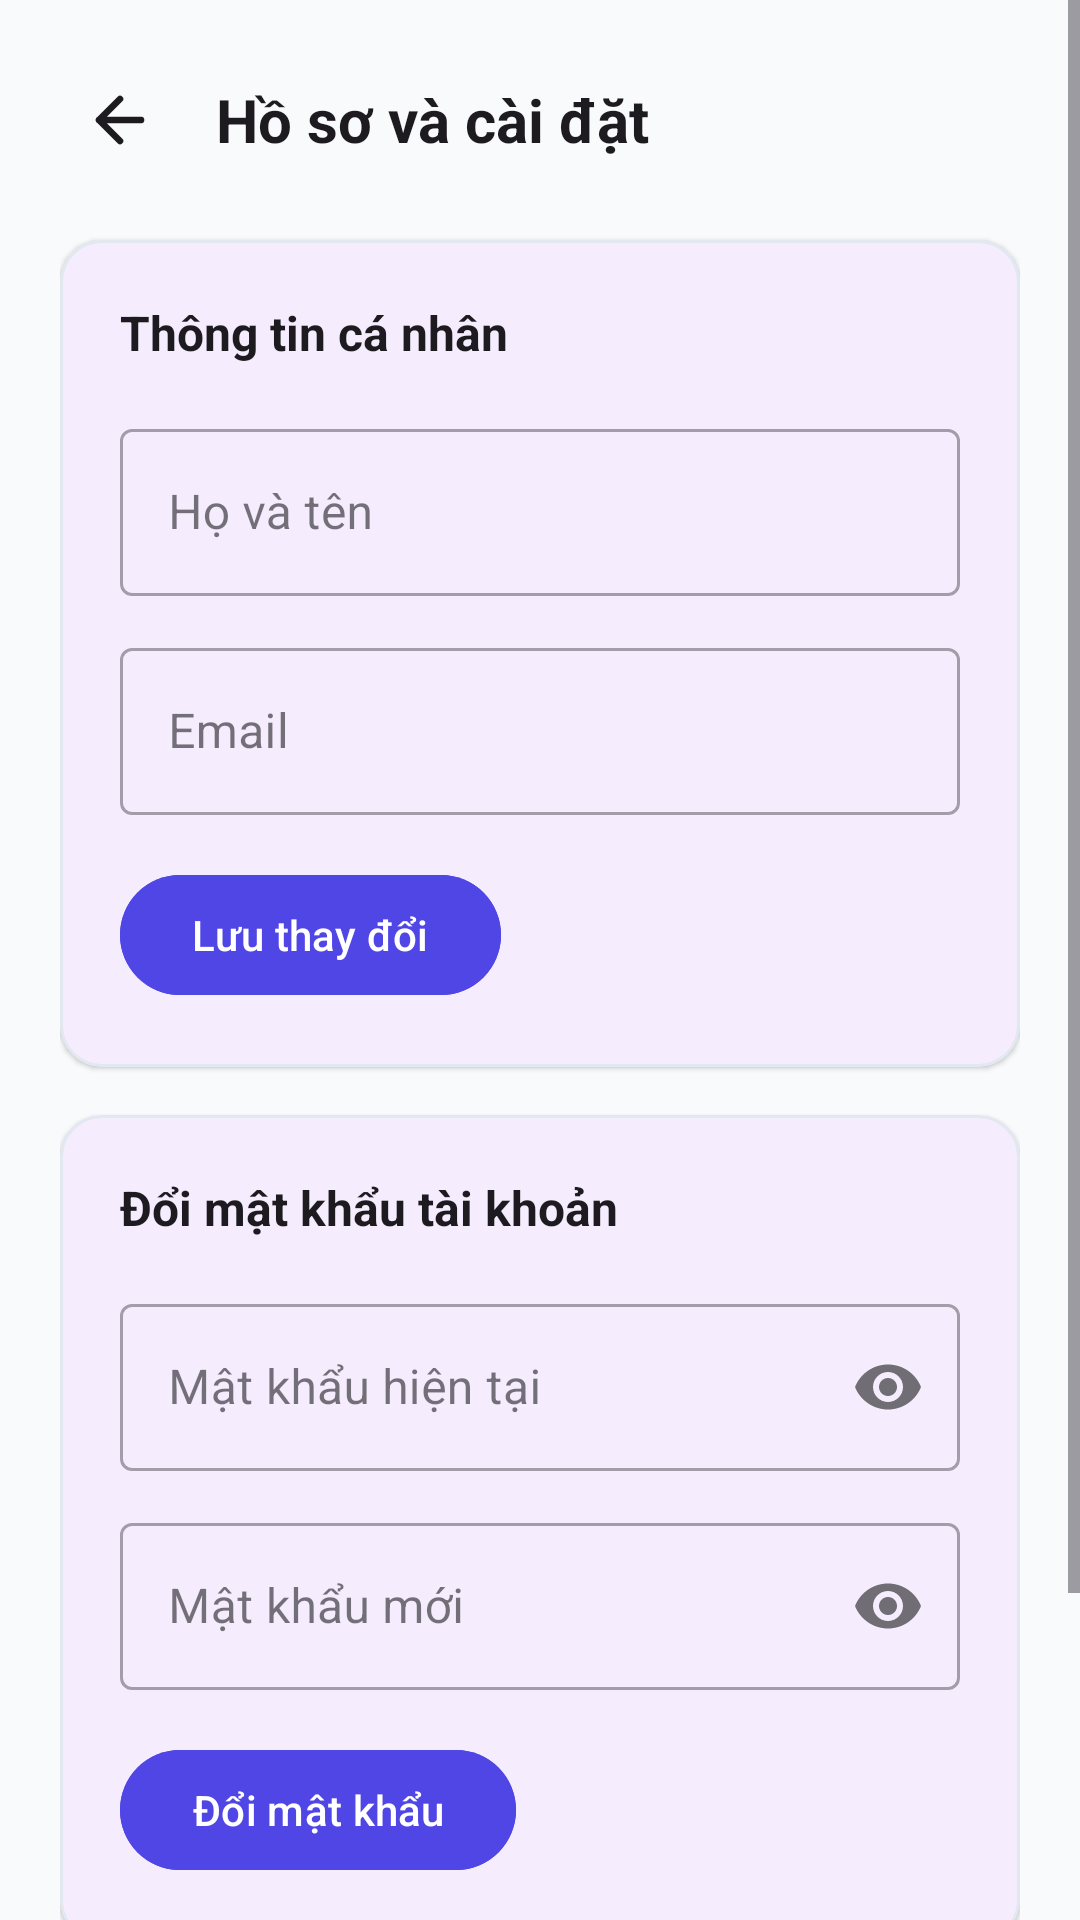

Where to tap for icons on this 1080 × 1920 app screen, as point (x, y):
Quay lại: point (120, 120)
